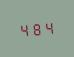eight: (31, 20, 42, 36)
four: (18, 21, 29, 37), (43, 19, 54, 35)
